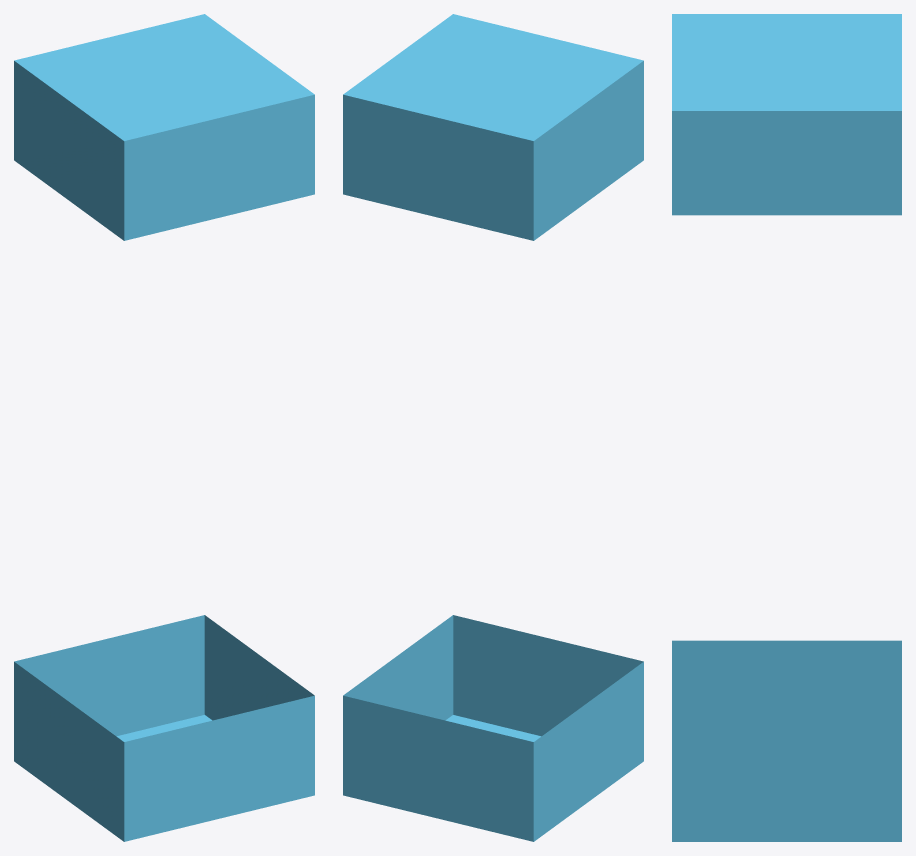
File: sp_panel_handle_editor.dae
The picture shows the model from 3 angles, left to right: view 1: azimuth 30°, elevation 25°; view 2: azimuth 150°, elevation 25°; view 3: azimuth 270°, elevation 25°; orthographic projection. The views are drawn at different scales.
Visible parts, largest first — view 1: panel_handle_editor; view 2: panel_handle_editor; view 3: panel_handle_editor.
Boxes of the visible parts, left/top/right/bottom form: panel_handle_editor: left=14, top=14, right=314, bottom=841; panel_handle_editor: left=343, top=14, right=643, bottom=841; panel_handle_editor: left=672, top=14, right=901, bottom=841.
Bounding box in the file's own units: 0.02 × 0.02 × 0.0702.
